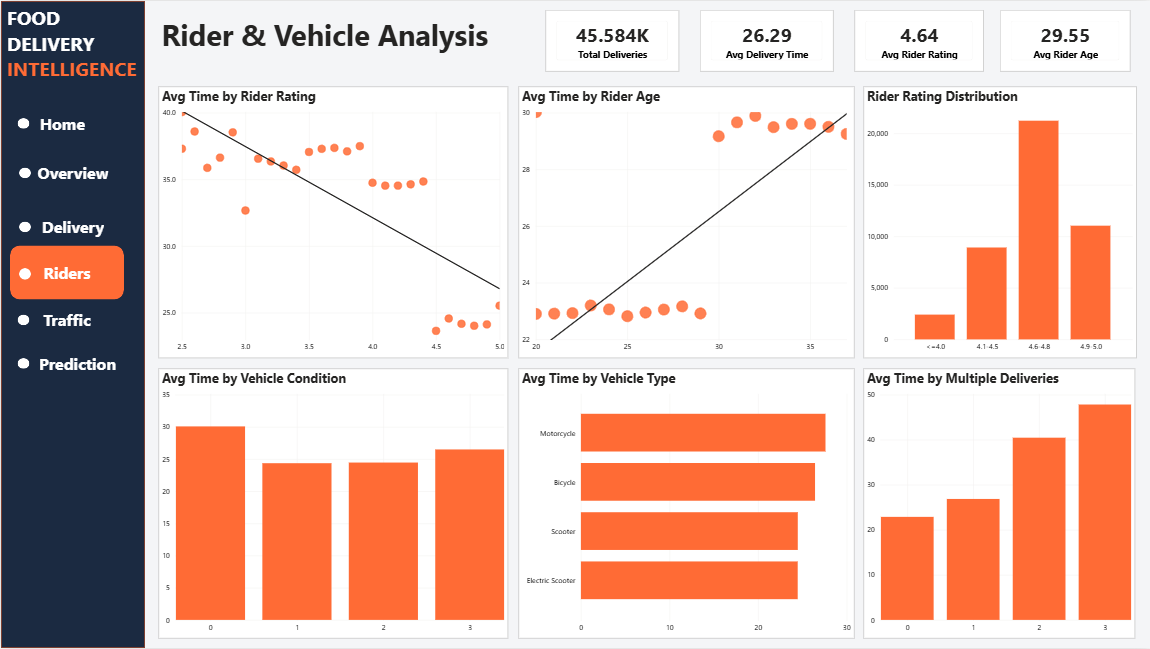

What the dashboard file says about the page in this screenshot:
{"tool":"powerbi","page":{"name":"Riders","canvas":[1920,1080],"ordinal":3},"visuals":[{"type":"group","id":"g1","title":"Group 4","box":[0,0,241.2,1080],"z":0},{"type":"group","id":"g2","title":"Group 3","box":[0,0,241.2,1080],"z":0,"group":"g1"},{"type":"shape","box":[0,0,240,1080],"z":0,"group":"g3"},{"type":"shape","box":[8,162.5,190,82.5],"z":0,"group":"g5"},{"type":"shape","box":[25,245,190,82.5],"z":0,"group":"g4"},{"type":"shape","box":[25,335,190,82.5],"z":0,"group":"g6"},{"type":"shape","box":[15,407.5,190,90],"z":0,"group":"g7"},{"type":"shape","box":[15,490,190,82.5],"z":0,"group":"g8"},{"type":"shape","box":[31.4,562.5,190,82.5],"z":0,"group":"g9"},{"type":"textbox","box":[3.8,0,237.5,142.5],"z":1000,"group":"g3"},{"type":"cardVisual","fields":{"Data":["_Measures (2).Avg Rider Age"]},"box":[1665,15,217.5,102.5],"z":1000},{"type":"shape","box":[29.1,195.4,20,18],"z":1000,"group":"g5"},{"type":"shape","box":[29.1,277.9,20,18],"z":1000,"group":"g4"},{"type":"shape","box":[29.1,367.9,20,18],"z":1000,"group":"g6"},{"type":"shape","box":[31.1,444.9,20,19.7],"z":1000,"group":"g7"},{"type":"shape","box":[28,522.9,20,18],"z":1000,"group":"g8"},{"type":"shape","box":[27.5,595.4,20,18],"z":1000,"group":"g9"},{"type":"cardVisual","fields":{"Data":["_Measures (2).Avg Rider Rating"]},"box":[1422.5,15,215,102.5],"z":2000},{"type":"cardVisual","fields":{"Data":["_Measures (2).Total Deliveries"]},"box":[907,15,222.5,102.5],"z":3000},{"type":"cardVisual","fields":{"Data":["_Measures (2).Avg Delivery Time"]},"box":[1165,15,222.5,102.5],"z":4000},{"type":"textbox","box":[262,17,580,85],"z":5000},{"type":"group","id":"g3","title":"Group 1","box":[0,0,241.2,1080],"z":6000,"group":"g2"},{"type":"scatterChart","title":"Avg Time by Rider Rating","fields":{"X":["Fact Delivery.Rider Rating"],"Y":["_Measures (2).Avg Delivery Time"]},"box":[262.5,142.5,582.5,452.5],"z":6000},{"type":"scatterChart","title":"Avg Time by Rider Age","fields":{"Y":["_Measures (2).Avg Delivery Time"],"X":["Fact Delivery.Rider Age"]},"box":[862.5,142.5,560,452.5],"z":7000},{"type":"barChart","title":"Avg Time by Vehicle Type","fields":{"Y":["_Measures (2).Avg Delivery Time"],"Category":["Fact Delivery.Vehicle Type"]},"box":[862.5,612.5,560,450],"z":8000},{"type":"columnChart","title":"Avg Time by Vehicle Condition","fields":{"Y":["_Measures (2).Avg Delivery Time"],"Category":["Fact Delivery.Vehicle Condition"]},"box":[262.5,612.5,582.5,450],"z":9000},{"type":"columnChart","title":"Avg Time by Multiple Deliveries","fields":{"Y":["_Measures (2).Avg Delivery Time"],"Category":["Fact Delivery.Multiple Deliveries"]},"box":[1437.5,612.5,452.5,450],"z":10000},{"type":"columnChart","title":" Rider Rating Distribution","fields":{"Category":["Fact Delivery.Rider Rating Band"],"Y":["_Measures (2).Total Deliveries"]},"box":[1437.5,142.5,455,452.5],"z":11000},{"type":"group","id":"g4","title":"Group 2","box":[25,245,190,82.5],"z":13000,"group":"g2"},{"type":"group","id":"g5","title":"Group 2","box":[8,162.5,190,82.5],"z":14000,"group":"g2"},{"type":"group","id":"g6","title":"Group 2","box":[25,335,190,82.5],"z":15000,"group":"g2"},{"type":"group","id":"g7","title":"Group 2","box":[15,407.5,190,90],"z":17000,"group":"g2"},{"type":"group","id":"g8","title":"Group 2","box":[15,490,190,82.5],"z":18000,"group":"g1"},{"type":"group","id":"g9","title":"Group 2","box":[27.5,562.5,192.5,82.5],"z":18000,"group":"g2"}]}

Visuals, with their boxes on the page's 1920x1080 design canvas (x1, y1, x2, y2). These are canvas units, not pixel positions in the 1150x649 screenshot, which may show the page scaled, cropped or inside an application window:
"Group 4" group: <region>0, 0, 241, 1080</region>
"Group 3" group: <region>0, 0, 241, 1080</region>
shape: <region>0, 0, 240, 1080</region>
shape: <region>8, 162, 198, 245</region>
shape: <region>25, 245, 215, 328</region>
shape: <region>25, 335, 215, 418</region>
shape: <region>15, 408, 205, 498</region>
shape: <region>15, 490, 205, 572</region>
shape: <region>31, 562, 221, 645</region>
textbox: <region>4, 0, 241, 142</region>
cardVisual - _Measures (2).Avg Rider Age: <region>1665, 15, 1882, 118</region>
shape: <region>29, 195, 49, 213</region>
shape: <region>29, 278, 49, 296</region>
shape: <region>29, 368, 49, 386</region>
shape: <region>31, 445, 51, 465</region>
shape: <region>28, 523, 48, 541</region>
shape: <region>28, 595, 48, 613</region>
cardVisual - _Measures (2).Avg Rider Rating: <region>1422, 15, 1638, 118</region>
cardVisual - _Measures (2).Total Deliveries: <region>907, 15, 1130, 118</region>
cardVisual - _Measures (2).Avg Delivery Time: <region>1165, 15, 1388, 118</region>
textbox: <region>262, 17, 842, 102</region>
"Group 1" group: <region>0, 0, 241, 1080</region>
"Avg Time by Rider Rating" scatterChart: <region>262, 142, 845, 595</region>
"Avg Time by Rider Age" scatterChart: <region>862, 142, 1422, 595</region>
"Avg Time by Vehicle Type" barChart: <region>862, 612, 1422, 1062</region>
"Avg Time by Vehicle Condition" columnChart: <region>262, 612, 845, 1062</region>
"Avg Time by Multiple Deliveries" columnChart: <region>1438, 612, 1890, 1062</region>
" Rider Rating Distribution" columnChart: <region>1438, 142, 1892, 595</region>
"Group 2" group: <region>25, 245, 215, 328</region>
"Group 2" group: <region>8, 162, 198, 245</region>
"Group 2" group: <region>25, 335, 215, 418</region>
"Group 2" group: <region>15, 408, 205, 498</region>
"Group 2" group: <region>15, 490, 205, 572</region>
"Group 2" group: <region>28, 562, 220, 645</region>
